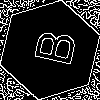B: (25, 25, 77, 68)
